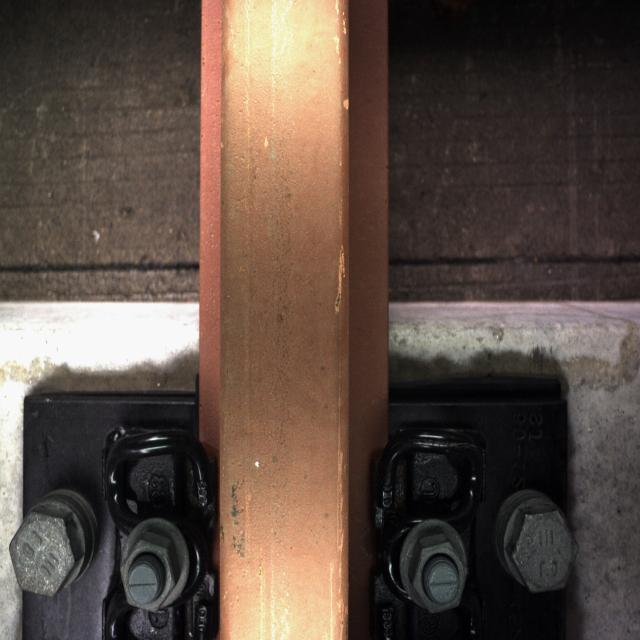scar: (218, 455, 274, 577), (310, 232, 366, 336)
